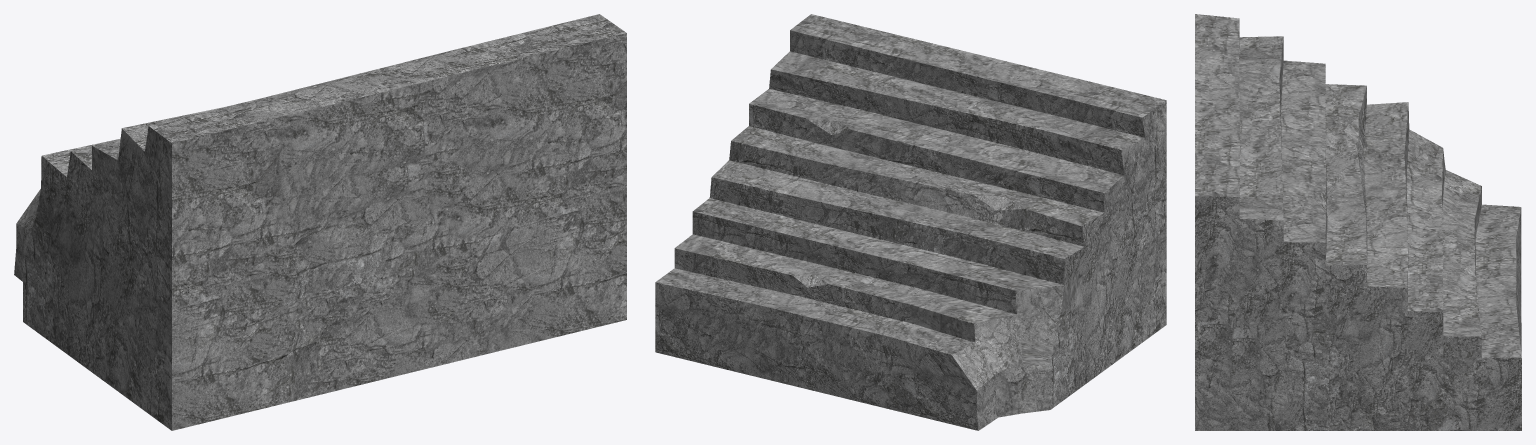
Rendered from materials_3_stairs_1.fbx.
3 renders of one model, left to right at view 1: azimuth 30°, elevation 25°; view 2: azimuth 150°, elevation 25°; view 3: azimuth 270°, elevation 25°, orthographic. The views are drawn at different scales.
Parts seen in each view (by area): view 1: materials_3_stairs_1; view 2: materials_3_stairs_1; view 3: materials_3_stairs_1.
Boxes of the visible parts, box(x1,y1,x2,y2) form: materials_3_stairs_1: box(14, 14, 626, 430); materials_3_stairs_1: box(655, 14, 1166, 430); materials_3_stairs_1: box(1195, 14, 1521, 430).
Bounding box in the file's own units: 234 × 141 × 178.
